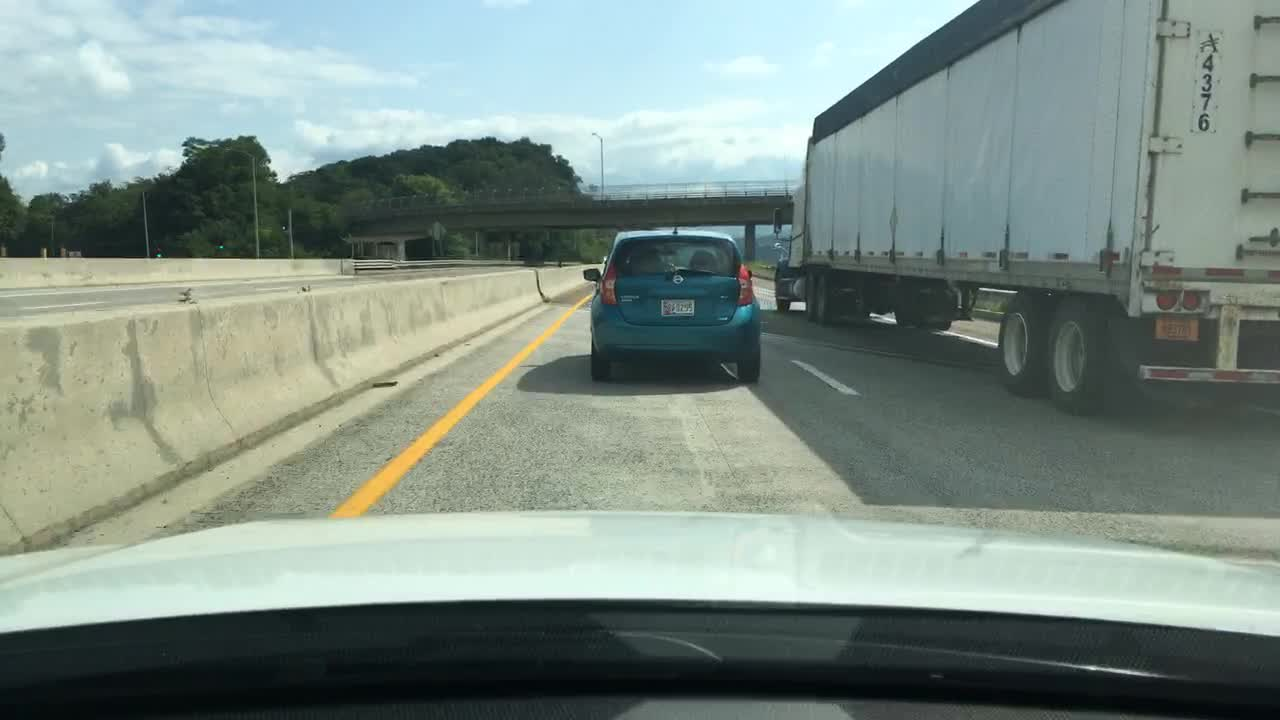car: (580, 226, 759, 388)
traffic light: (152, 243, 163, 260), (216, 234, 226, 250)
truck: (771, 0, 1279, 418)
